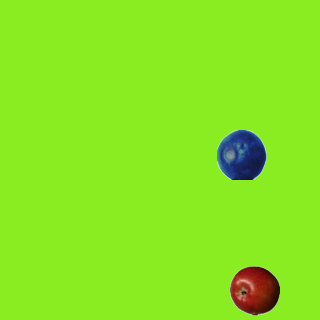Apple Braeburn: (229, 265, 279, 315)
Huckleberry: (216, 129, 266, 179)
